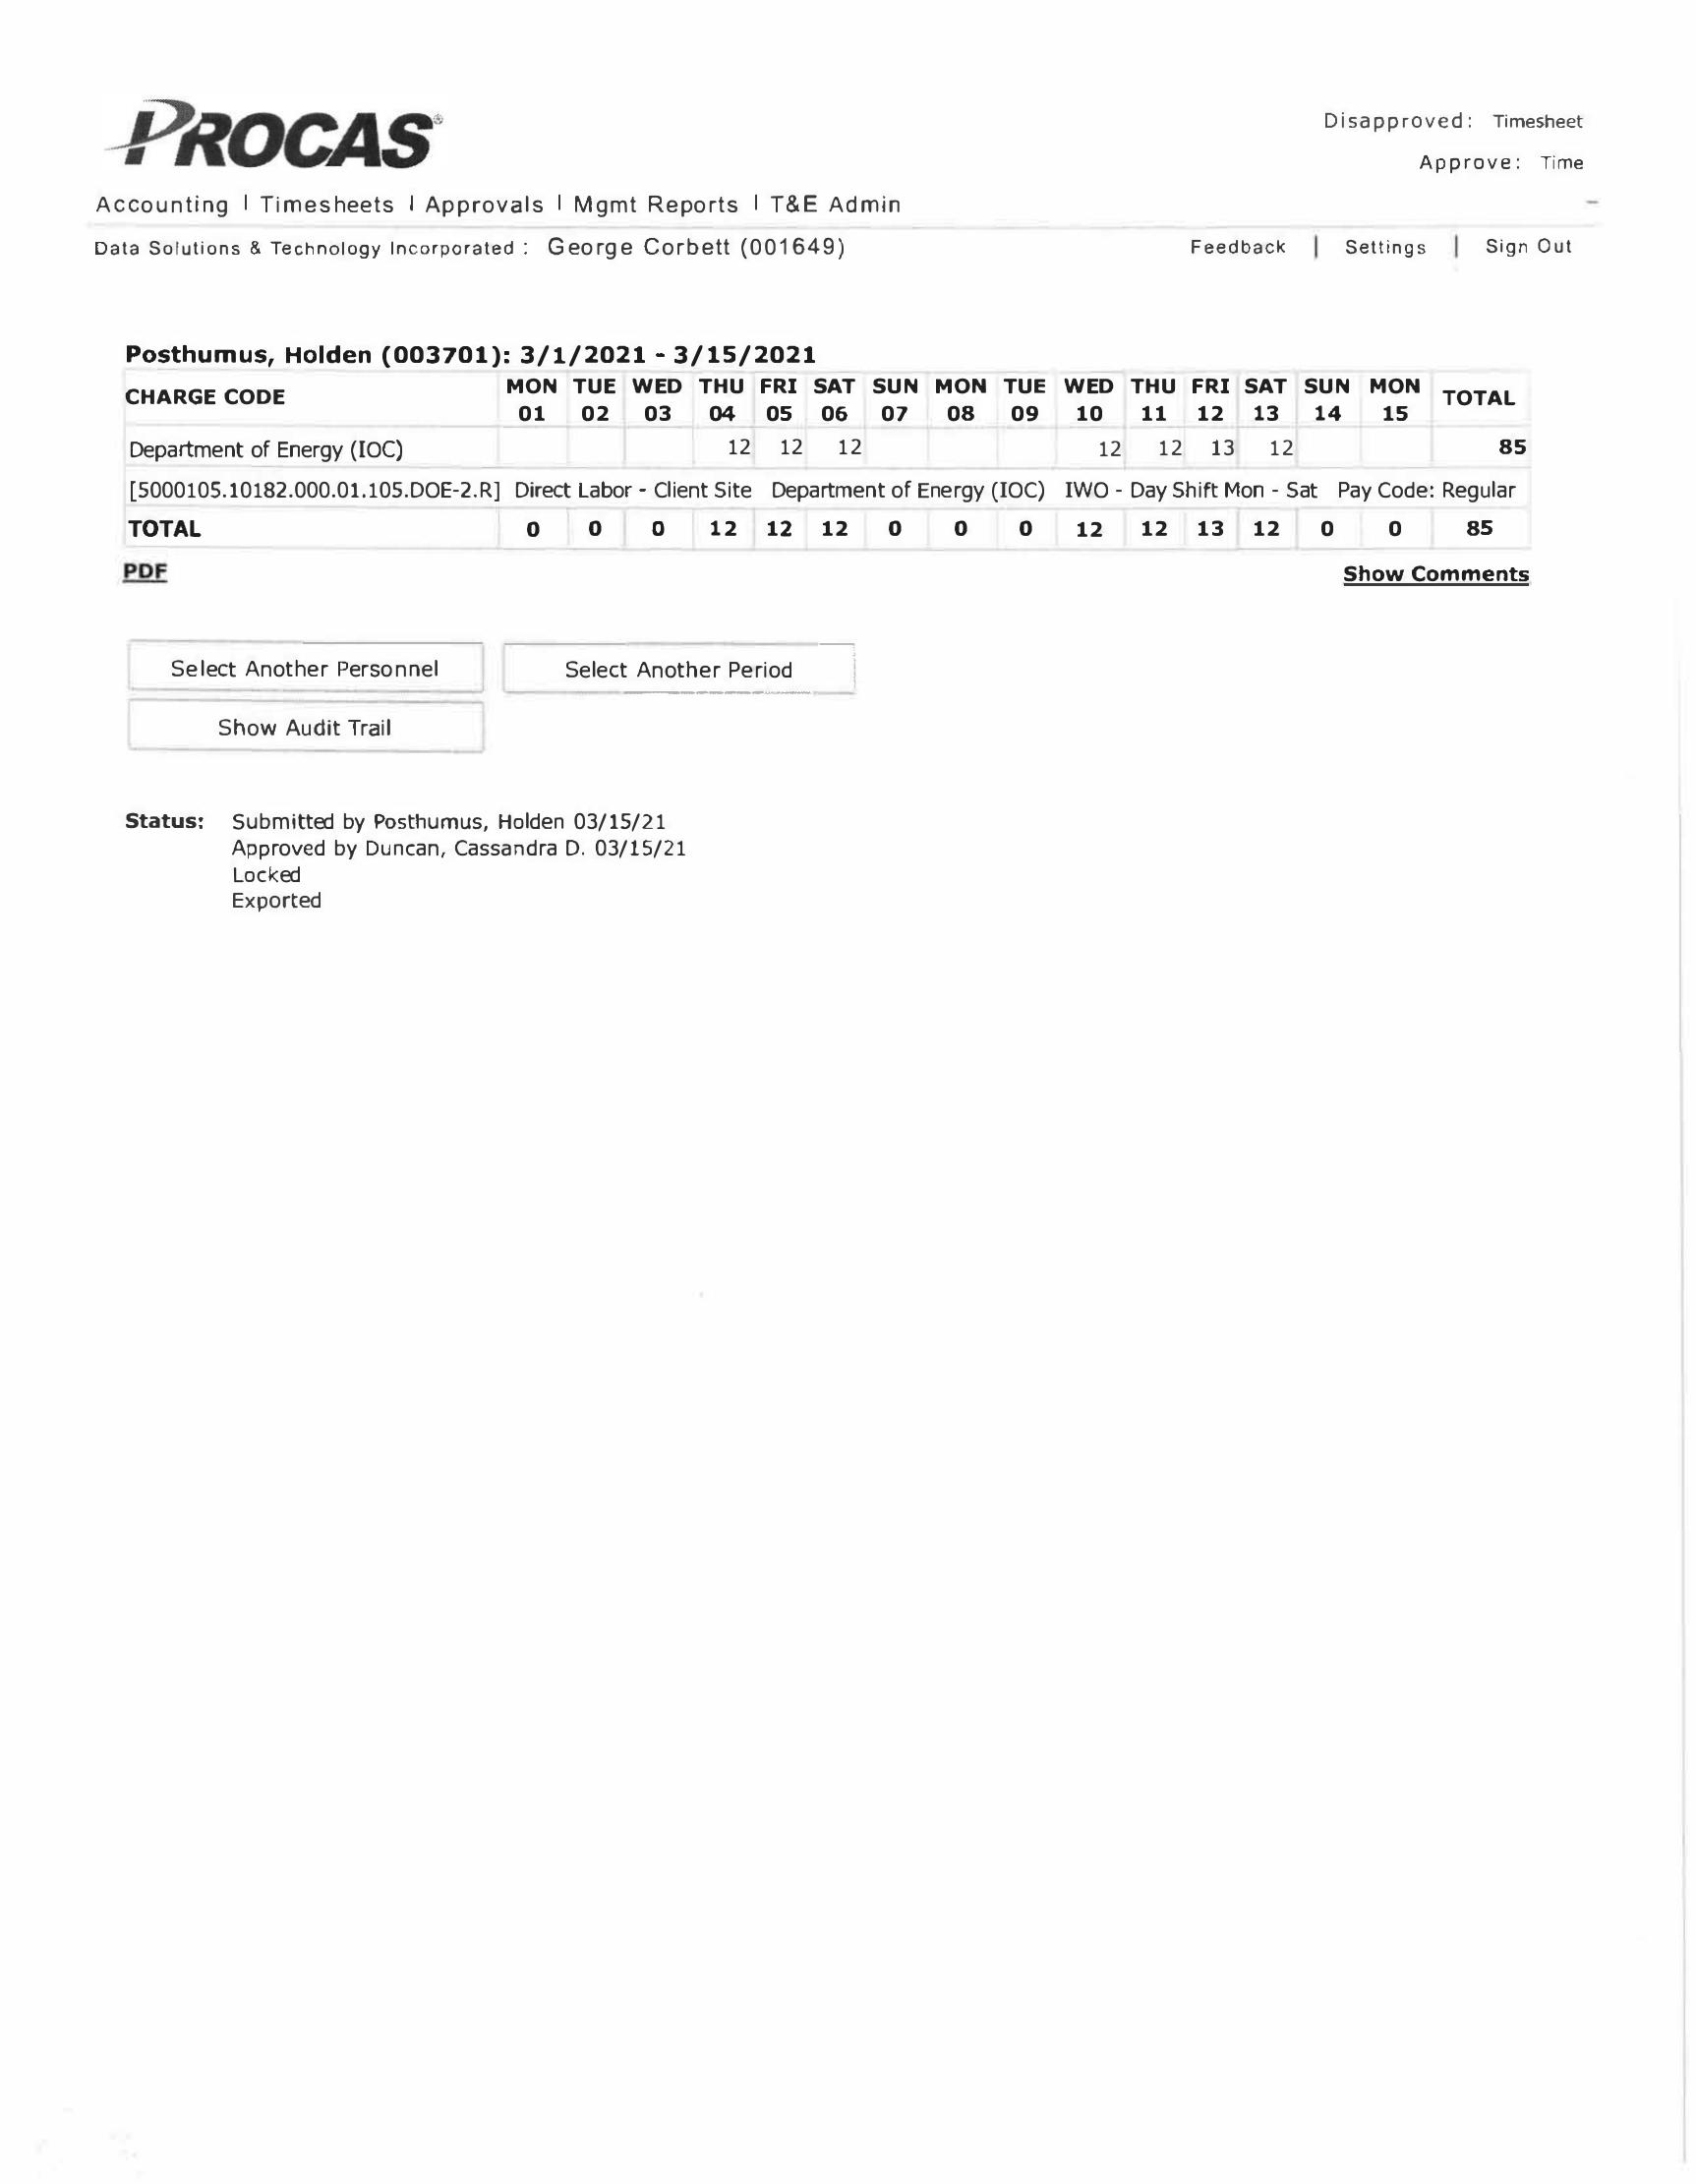table: (121, 362, 1545, 555)
